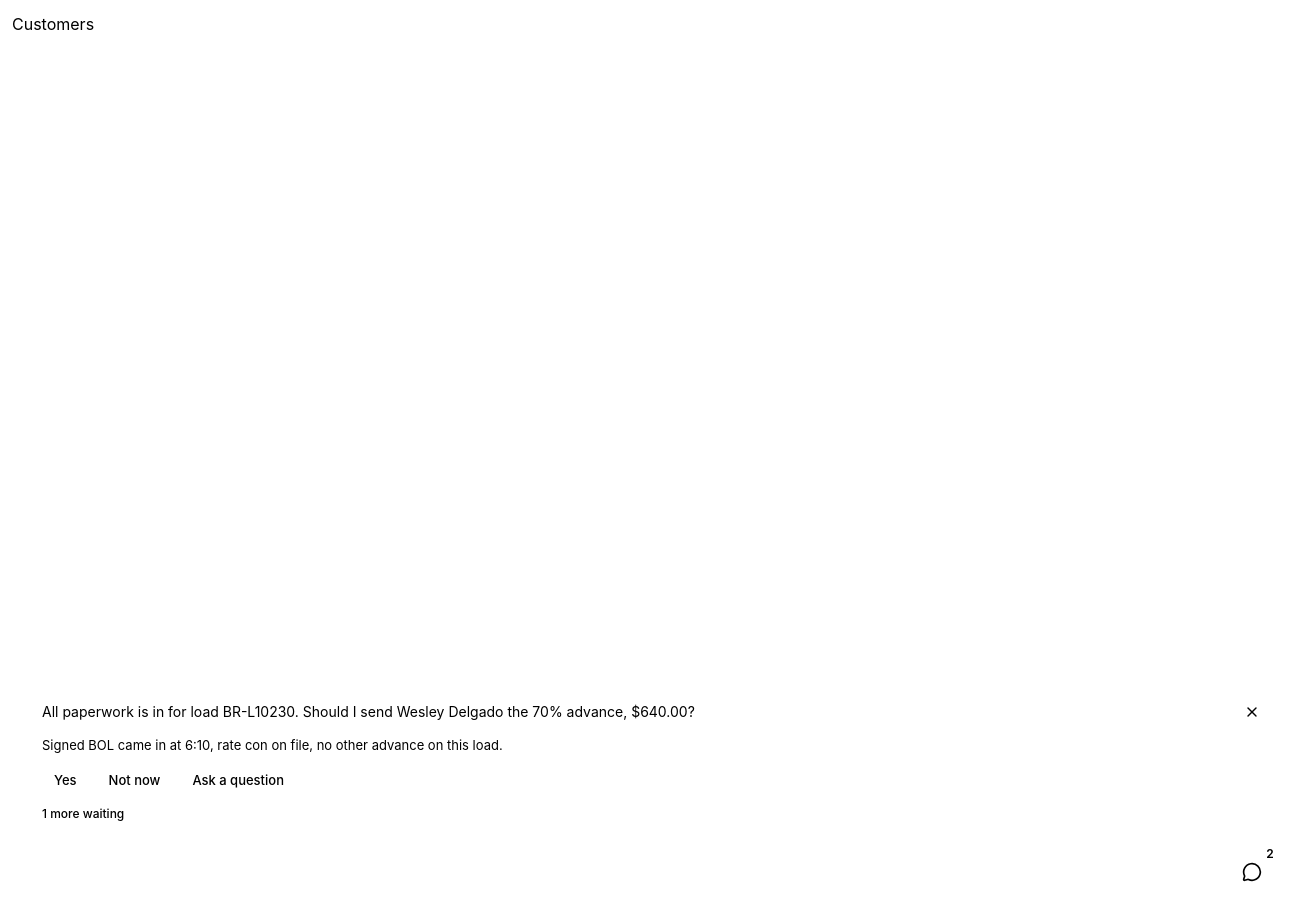
the agent's questions on the launcher › puts it off on Not now and shows the next one
Step 1. Click the button "Not now" → (134, 780), box 97,764 -> 172,796
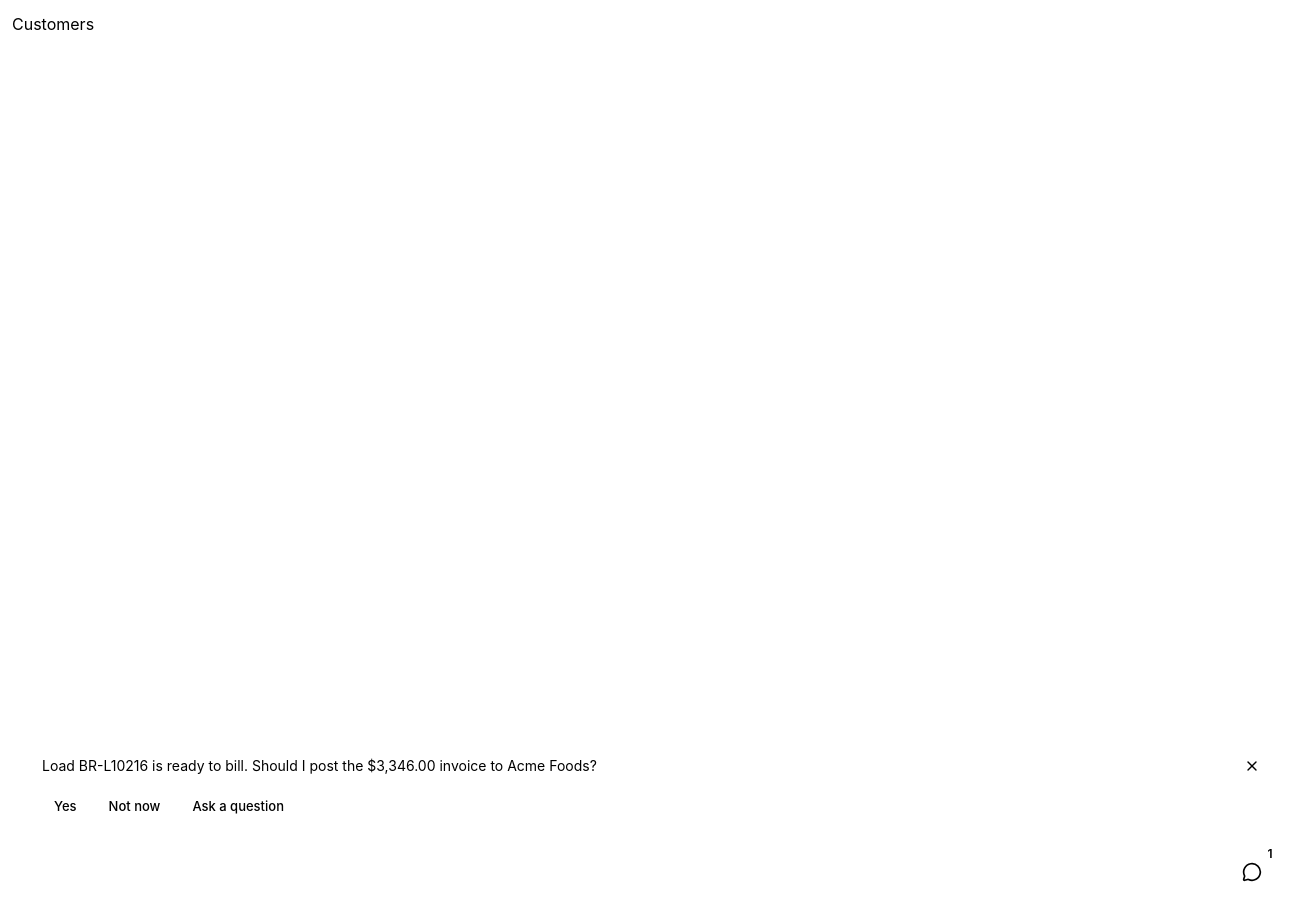
Now the text "Load BR-L10216 is ready to bill. Should I post the $3,346.00 invoice to Acme Foods?" is shown, box 42,757 -> 597,774
Now the text with test id "ask-badge" reads "1", box 1268,846 -> 1273,861
